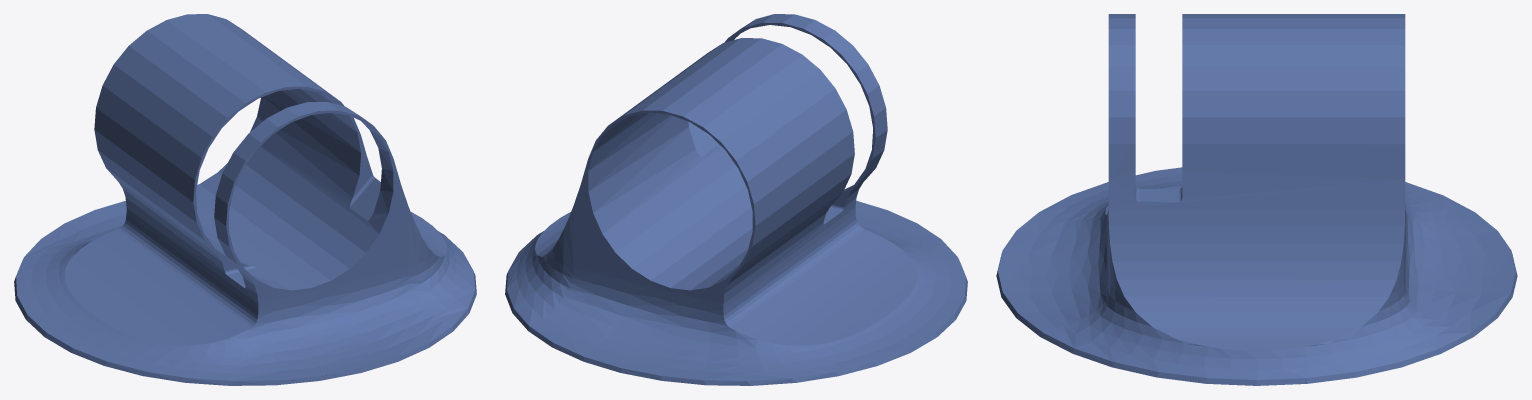
Rendered from torso1.dae.
The picture shows the model from 3 angles, left to right: view 1: azimuth 30°, elevation 25°; view 2: azimuth 150°, elevation 25°; view 3: azimuth 270°, elevation 25°; orthographic projection. The views are drawn at different scales.
Parts seen in each view (by area): view 1: torso-link2_iv__Geometry_0; view 2: torso-link2_iv__Geometry_0; view 3: torso-link2_iv__Geometry_0.
Part boxes in pixels (x1=…): torso-link2_iv__Geometry_0: x1=14, y1=14, x2=476, y2=385; torso-link2_iv__Geometry_0: x1=505, y1=14, x2=967, y2=385; torso-link2_iv__Geometry_0: x1=996, y1=14, x2=1517, y2=385.
Size of the model in its own units: 0.29 by 0.29 by 0.1543.
